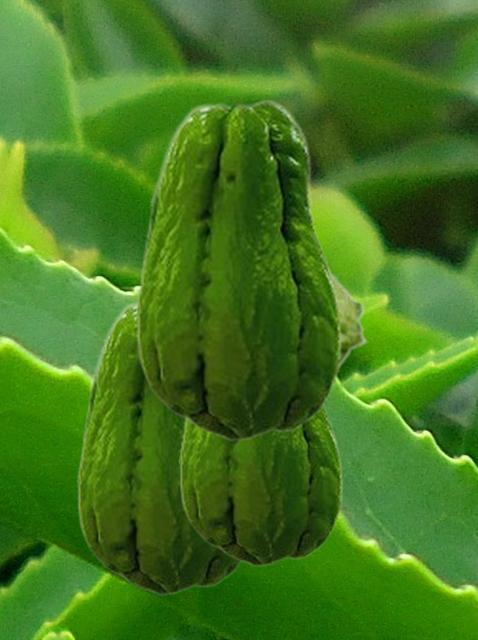sayote: (136, 98, 341, 441), (77, 298, 243, 595), (179, 403, 342, 566), (329, 262, 368, 367)
